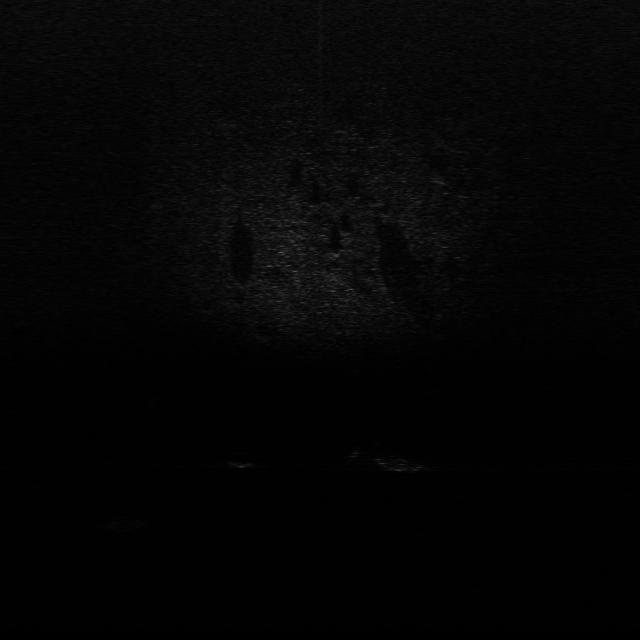ball: (230, 448, 260, 472)
circle cage: (94, 507, 158, 537)
human body: (348, 440, 434, 477)
